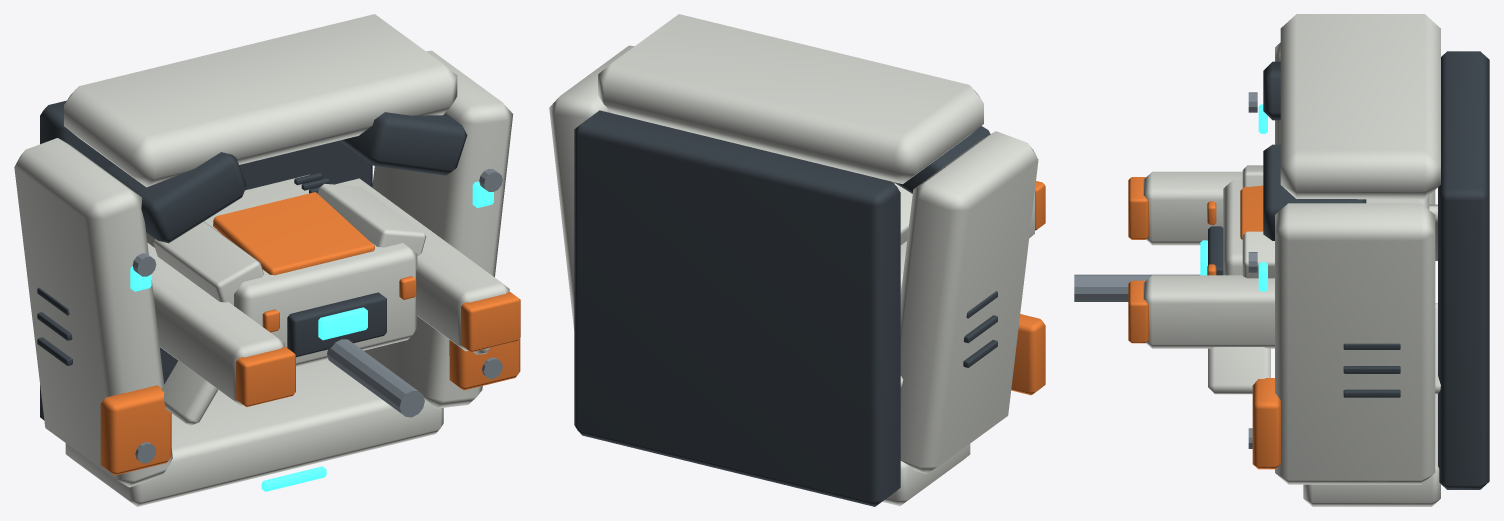
Rendered from VXDR_INTERCEPT_v002_DOCKED.fbx.
3 views of the same model, side by side, from view 1: azimuth 30°, elevation 25°; view 2: azimuth 150°, elevation 25°; view 3: azimuth 270°, elevation 25° (orthographic). The views are drawn at different scales.
Parts seen in each view (by area): view 1: Docked_Top bridge, Docked_Cradle armored rail, Docked_Bottom charging bridge, Docked_Cradle armored rail.001, Docked_Armored sensor shell, Docked_Interceptor pylon, Docked_Top identification, Docked_Angled cradle brow, Docked_Interceptor pylon.001, Docked_Body mounting plate, Docked_Angled cradle brow.001, Docked_Rail orange latch (+10 smaller); view 2: Docked_Body mounting plate, Docked_Top bridge, Docked_Cradle armored rail, Docked_Cradle armored rail.001, Docked_Rail orange latch, Docked_Bottom charging bridge, Docked_Angled cradle brow, Docked_Sloped cheek armor; view 3: Docked_Cradle armored rail.001, Docked_Top bridge, Docked_Body mounting plate, Docked_Interceptor pylon.001, Docked_Interceptor pylon, Docked_Bottom charging bridge, Docked_Foldable stabilizer.002, Docked_Rail orange latch.001, Docked_Armored sensor shell, Docked_Angled cradle brow.001, Docked_Interceptor barrel, Docked_Pylon nose.001 (+7 smaller).
Part boxes in pixels (x1,y1,x2,y2): Docked_Top bridge: (64,14,457,187); Docked_Cradle armored rail: (14,138,172,487); Docked_Bottom charging bridge: (65,359,443,506); Docked_Cradle armored rail.001: (364,50,513,408); Docked_Armored sensor shell: (146,174,417,366); Docked_Interceptor pylon: (147,243,284,405); Docked_Top identification: (213,192,374,275); Docked_Angled cradle brow: (106,152,246,243); Docked_Interceptor pylon.001: (335,178,509,351); Docked_Body mounting plate: (40,100,372,420); Docked_Angled cradle brow.001: (339,112,467,175); Docked_Rail orange latch: (100,385,171,475); Docked_Body mounting plate: (574,110,900,506); Docked_Top bridge: (598,14,983,184); Docked_Cradle armored rail: (900,131,1038,473); Docked_Cradle armored rail.001: (549,45,634,330); Docked_Rail orange latch: (1011,314,1045,395); Docked_Bottom charging bridge: (882,444,970,505); Docked_Angled cradle brow: (894,126,990,193); Docked_Sloped cheek armor: (894,182,912,244); Docked_Cradle armored rail.001: (1275,203,1435,484); Docked_Top bridge: (1280,14,1440,199); Docked_Body mounting plate: (1438,51,1489,489); Docked_Interceptor pylon.001: (1143,275,1274,348); Docked_Interceptor pylon: (1143,171,1242,245); Docked_Bottom charging bridge: (1303,394,1440,506); Docked_Foldable stabilizer.002: (1208,347,1270,394); Docked_Rail orange latch.001: (1252,378,1280,469); Docked_Armored sensor shell: (1223,179,1429,275); Docked_Angled cradle brow.001: (1263,144,1366,240); Docked_Interceptor barrel: (1074,274,1199,301); Docked_Pylon nose.001: (1128,280,1148,343).
Bounding box in the file's own units: 40.81 × 35 × 36.25.
